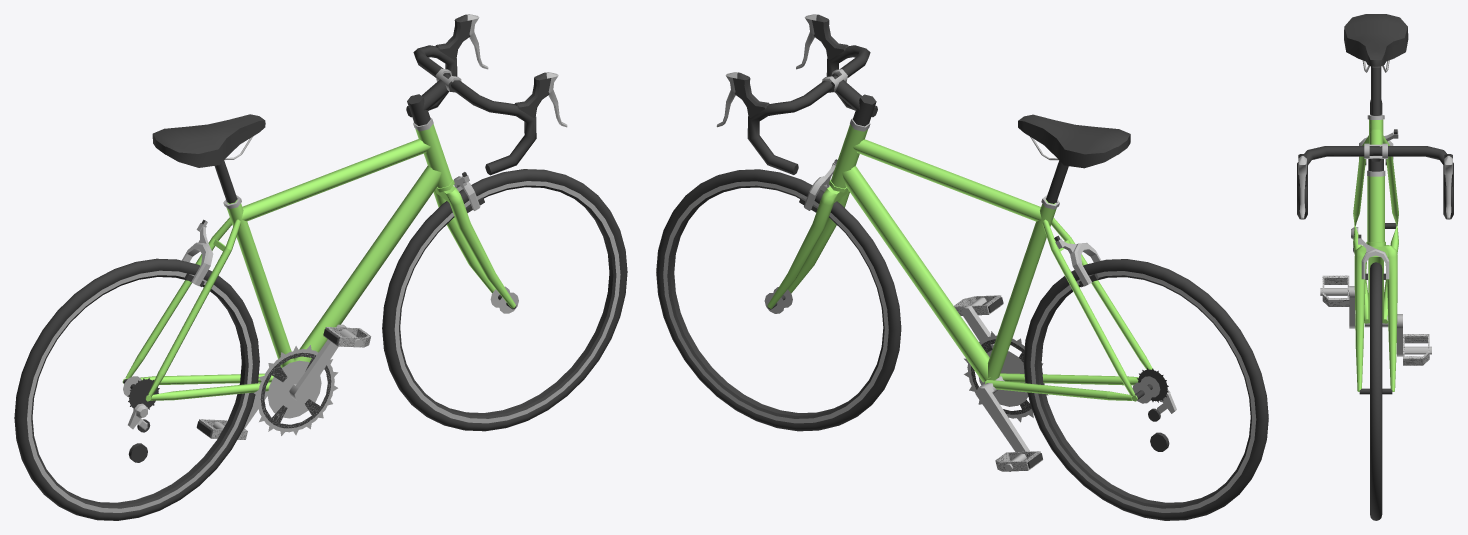
The model's file is Green_Road_Bike.dae.
3 renders of one model, left to right at view 1: azimuth 30°, elevation 25°; view 2: azimuth 150°, elevation 25°; view 3: azimuth 270°, elevation 25°, orthographic. The views are drawn at different scales.
Visible parts, largest first — view 1: wheel_2 (×3), wheel_1 (×3), group_16 (×4), group_12, group_0, group_18, グループ_2 (×2), group_17, group_9 (×2), group_13, グループ_22 (×2), group_8 (+3 smaller); view 2: wheel_2 (×3), wheel_1 (×3), group_12, group_16 (×4), group_0, group_18, グループ_2 (×2), group_17, group_13, グループ_22 (×2), group_14, group_6 (+2 smaller); view 3: wheel_2, group_0, group_13, グループ_2 (×2), group_16 (×4), group_6, group_14 (×4), Bike_Pedal (×2), グループ_22 (×2), group_11, group_30, group_12 (+2 smaller).
Part boxes in pixels (left/top/right/bottom): wheel_2 (×3): left=382, top=169, right=627, bottom=431; wheel_1 (×3): left=14, top=258, right=259, bottom=520; group_16 (×4): left=125, top=217, right=273, bottom=400; group_12: left=294, top=165, right=441, bottom=362; group_0: left=152, top=114, right=265, bottom=167; group_18: left=241, top=139, right=430, bottom=221; グループ_2 (×2): left=406, top=45, right=536, bottom=175; group_17: left=226, top=199, right=294, bottom=367; group_9 (×2): left=254, top=345, right=338, bottom=435; group_13: left=433, top=186, right=515, bottom=308; グループ_22 (×2): left=435, top=14, right=551, bottom=117; group_8: left=267, top=360, right=321, bottom=418; wheel_2 (×3): left=656, top=169, right=901, bottom=431; wheel_1 (×3): left=1023, top=259, right=1268, bottom=520; group_12: left=842, top=166, right=990, bottom=382; group_16 (×4): left=985, top=218, right=1152, bottom=400; group_0: left=1018, top=114, right=1130, bottom=168; group_18: left=853, top=139, right=1041, bottom=221; グループ_2 (×2): left=747, top=45, right=877, bottom=174; group_17: left=987, top=200, right=1056, bottom=380; group_13: left=767, top=186, right=849, bottom=308; グループ_22 (×2): left=733, top=14, right=848, bottom=117; group_14: left=975, top=384, right=1030, bottom=451; group_6: left=831, top=124, right=867, bottom=188; wheel_2: left=1370, top=262, right=1382, bottom=520; group_0: left=1344, top=14, right=1408, bottom=66; group_13: left=1354, top=245, right=1397, bottom=391; グループ_2 (×2): left=1297, top=146, right=1453, bottom=219; group_16 (×4): left=1353, top=135, right=1398, bottom=323; group_6: left=1367, top=176, right=1384, bottom=242; group_14 (×4): left=1320, top=286, right=1431, bottom=356; Bike_Pedal (×2): left=1322, top=275, right=1429, bottom=365; グループ_22 (×2): left=1298, top=156, right=1452, bottom=219; group_11: left=1371, top=66, right=1381, bottom=115; group_30: left=1358, top=238, right=1389, bottom=279; group_12: left=1368, top=257, right=1383, bottom=321.
Bounding box in the file's own units: 64.84 × 15.62 × 38.89.
